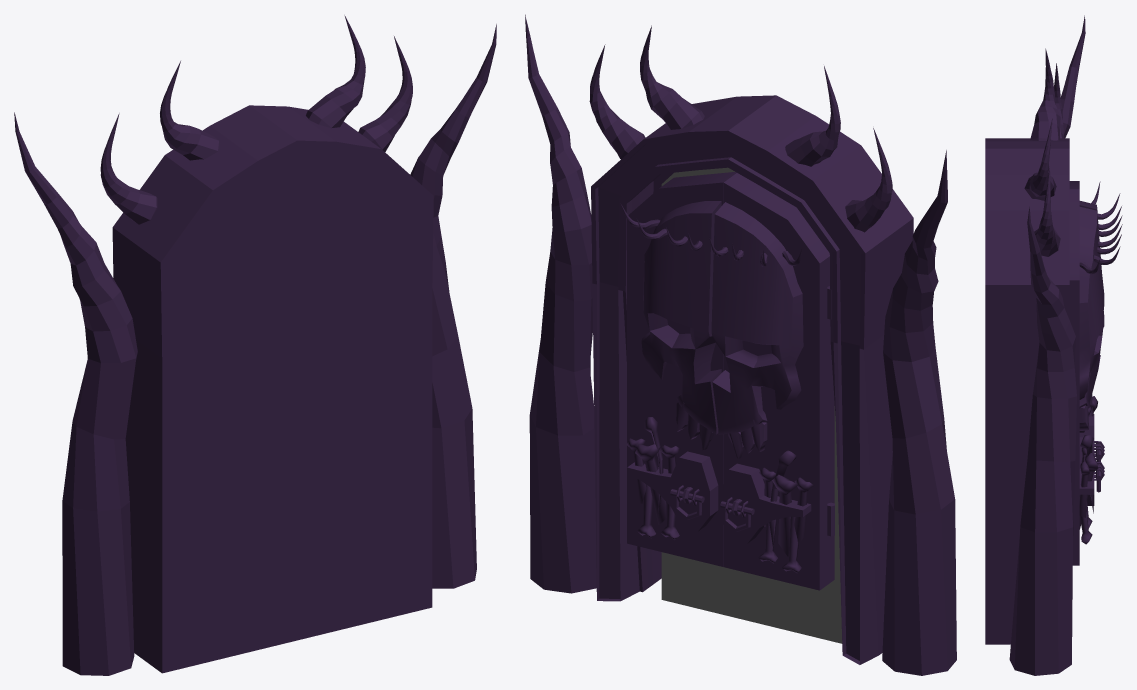
The model's file is MODE_ARENA_GATE.V3.fbx.
3 renders of one model, left to right at view 1: azimuth 30°, elevation 25°; view 2: azimuth 150°, elevation 25°; view 3: azimuth 270°, elevation 25°, orthographic. The views are drawn at different scales.
Visible parts, largest first — view 1: Cadre; view 2: Cadre, Door_L, Door_R, Derriere; view 3: Cadre, Door_R, Door_L.
Boxes of the visible parts, left/top/right/bottom form: Cadre: left=14, top=15, right=496, bottom=675; Cadre: left=525, top=14, right=956, bottom=675; Door_L: left=709, top=173, right=834, bottom=590; Door_R: left=621, top=172, right=736, bottom=566; Derriere: left=661, top=167, right=842, bottom=643; Cadre: left=985, top=15, right=1085, bottom=675; Door_R: left=1069, top=189, right=1122, bottom=565; Door_L: left=1069, top=181, right=1122, bottom=461.
Size of the model in its own units: 0.1128 by 0.1394 by 0.034.
